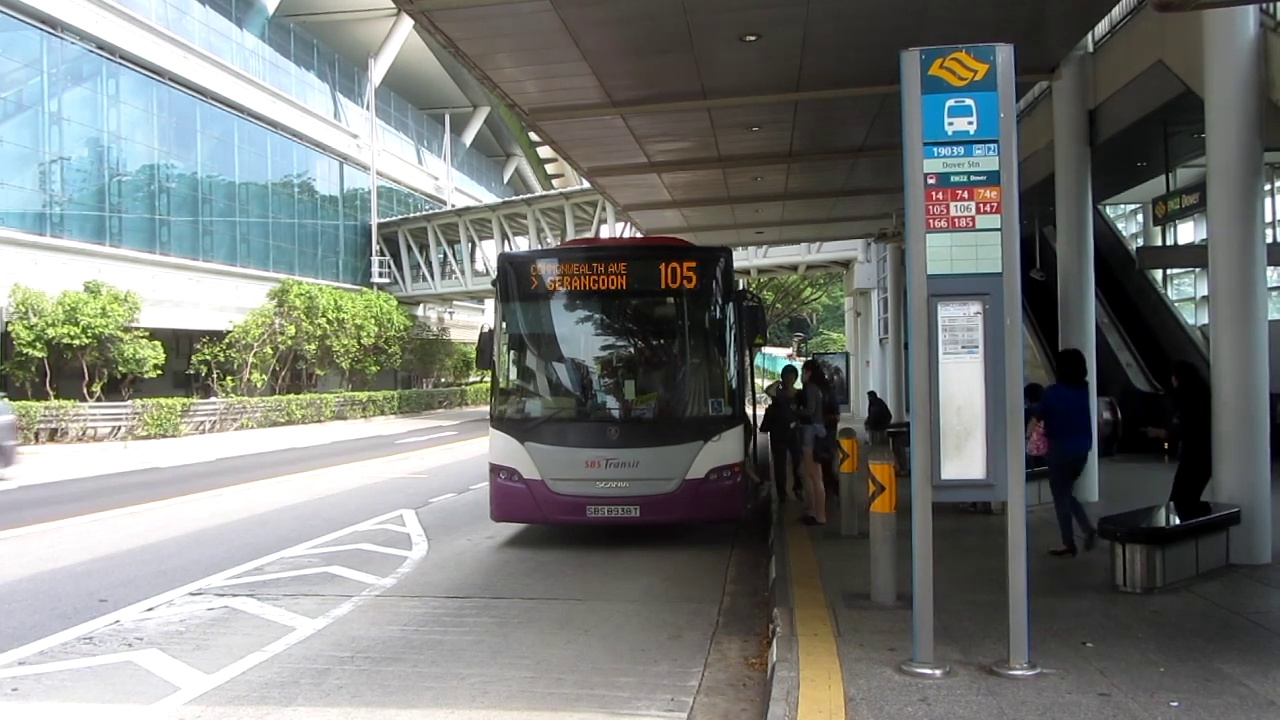bus panel: (528, 259, 701, 294)
